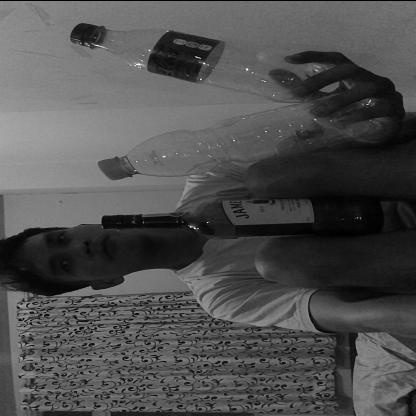objects: (102, 192, 382, 238)
plastic_bottles: (99, 94, 382, 180), (70, 22, 328, 102)
